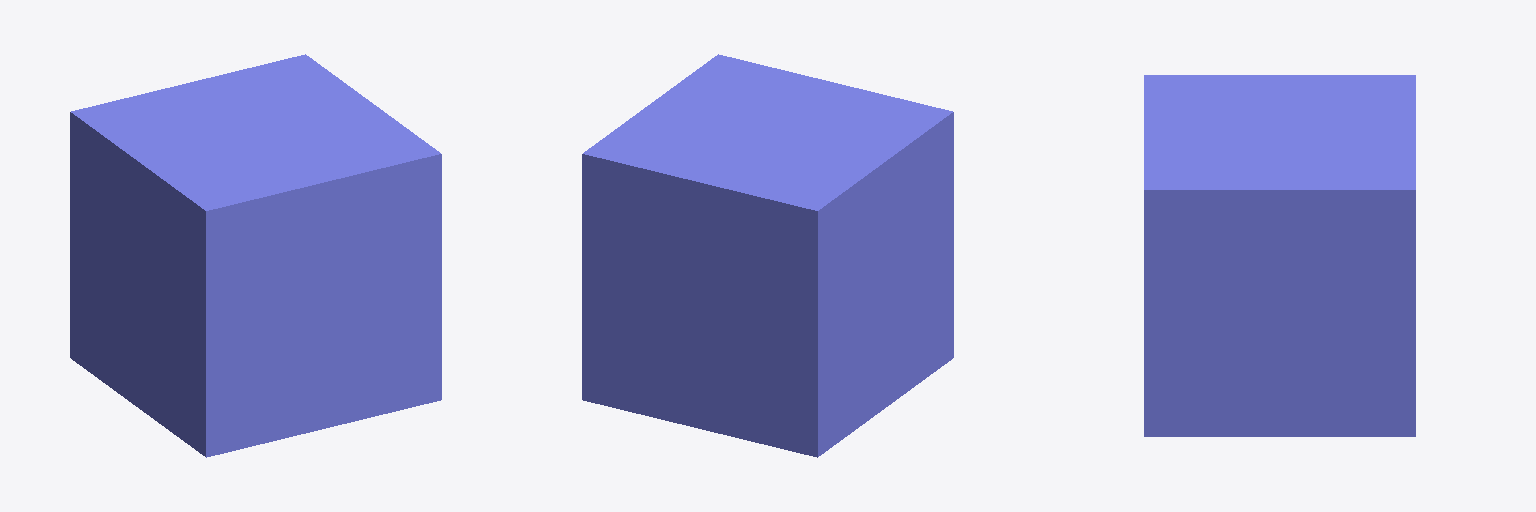
3 renders of one model, left to right at view 1: azimuth 30°, elevation 25°; view 2: azimuth 150°, elevation 25°; view 3: azimuth 270°, elevation 25°, orthographic.
Visible parts, largest first — view 1: Cube; view 2: Cube; view 3: Cube.
Boxes of the visible parts, box(x1,y1,x2,y2) form: Cube: box(70, 54, 441, 457); Cube: box(582, 54, 953, 457); Cube: box(1144, 75, 1415, 436).
Size of the model in its own units: 2 by 2 by 2.
Materials: 1 (1 with a texture image).